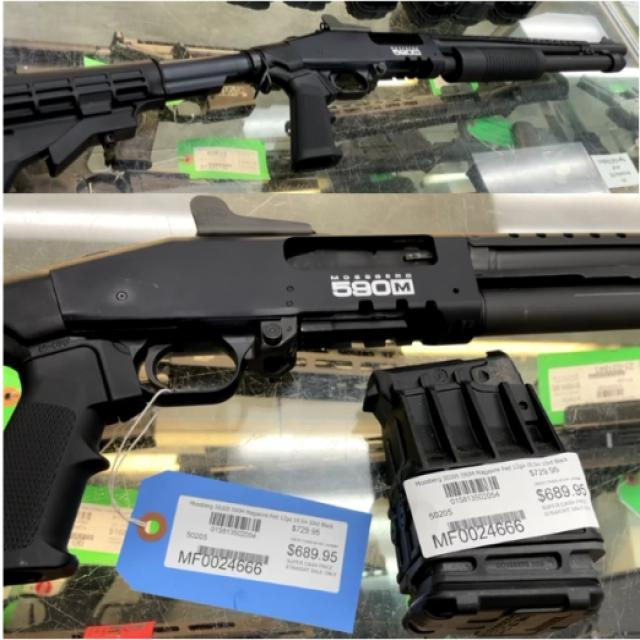ShotGun: (2, 196, 640, 586), (4, 31, 630, 174)
